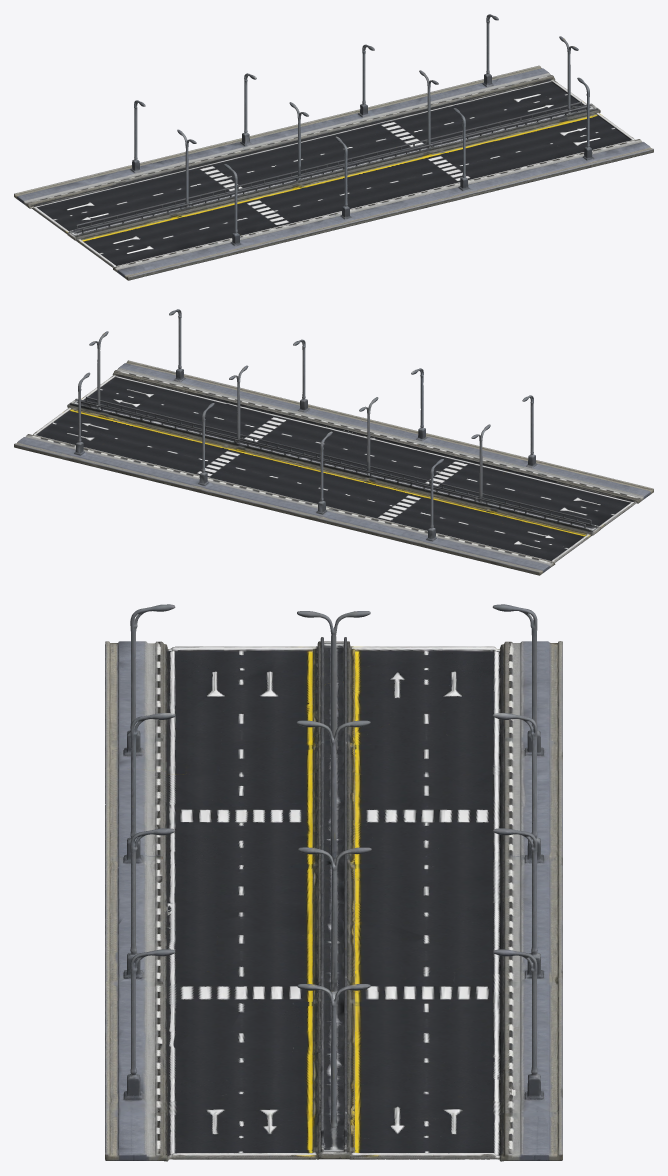
The model's file is duong-cao-toc.glb.
3 views of the same model, one above another, from view 1: azimuth 30°, elevation 25°; view 2: azimuth 150°, elevation 25°; view 3: azimuth 270°, elevation 25° (orthographic). The views are drawn at different scales.
Parts seen in each view (by area): view 1: mesh_node; view 2: mesh_node; view 3: mesh_node.
Part boxes in pixels (x1,y1,x2,y2): mesh_node: (14,14,653,280); mesh_node: (14,309,653,575); mesh_node: (105,604,562,1161).
Size of the model in its own units: 120 by 16.92 by 45.25.
1 material, 1 textured.
